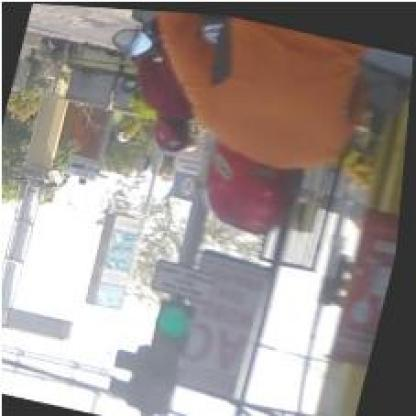green: (143, 296, 198, 411)
